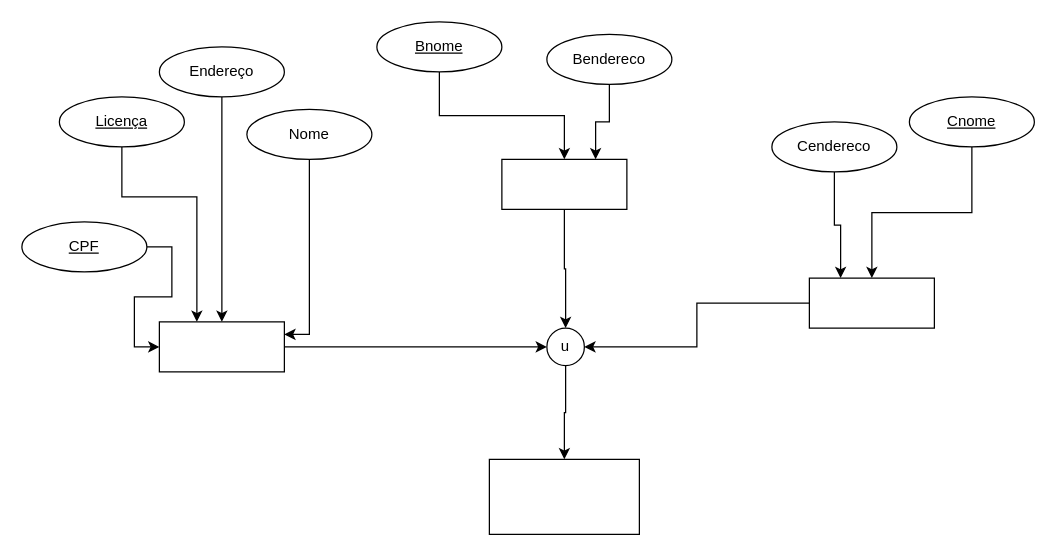
Image size: 1056x556. Some labels were removed from this diagram. Here are the shapes that lost their labels. From the top down, the centre of each, then its label:
At point (564, 183): "Banco".
At point (871, 302): "Company".
At point (221, 346): "Pessoa".
At point (563, 496): "Owner".
